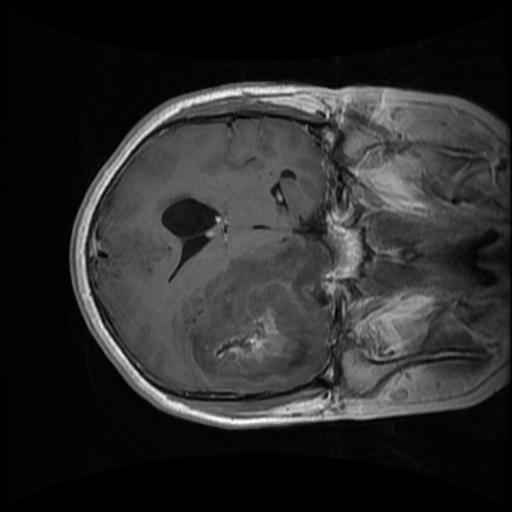glioma: (174, 236, 333, 383)
